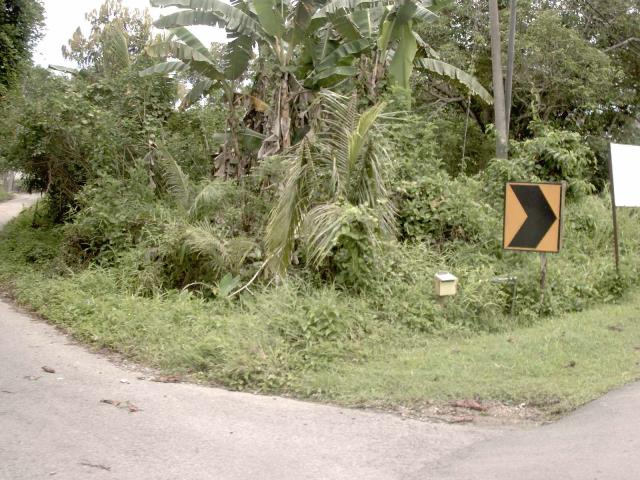traffic_sign: (492, 169, 571, 263)
